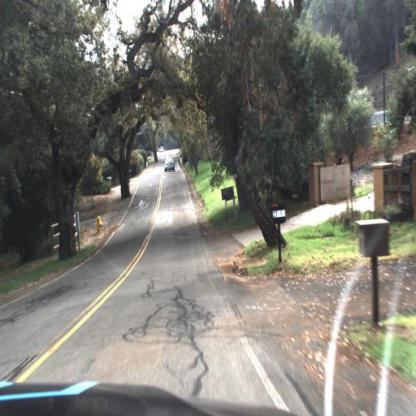car: (163, 152, 179, 173)
